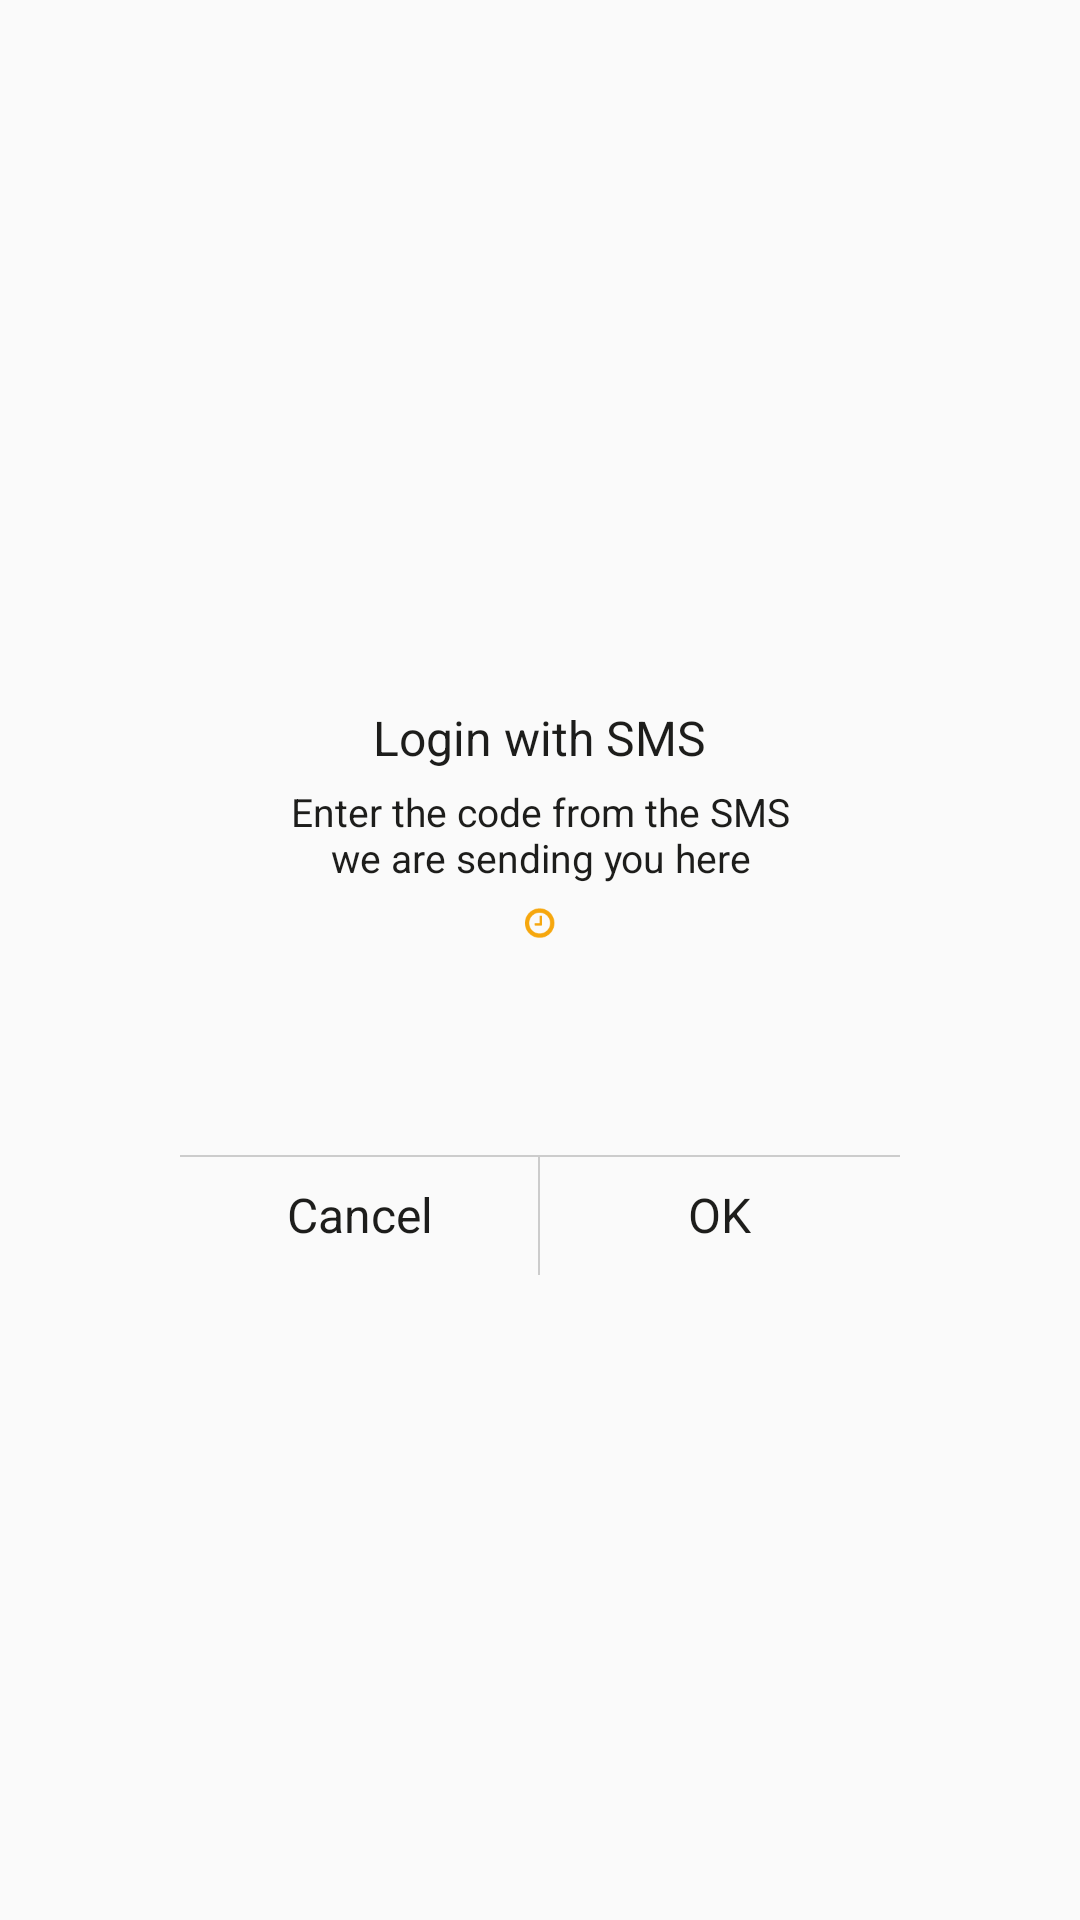

Point at icon controls on the screen. Image size 1080px x 1920px, points as (x,y).
clock: (540,923)
